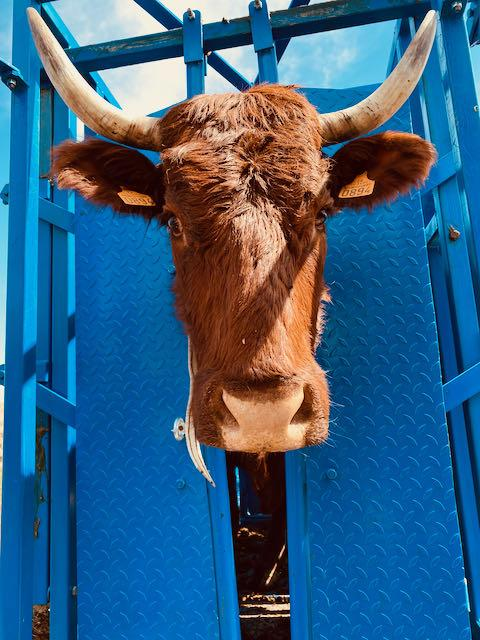muzzles: (183, 371, 344, 461)
